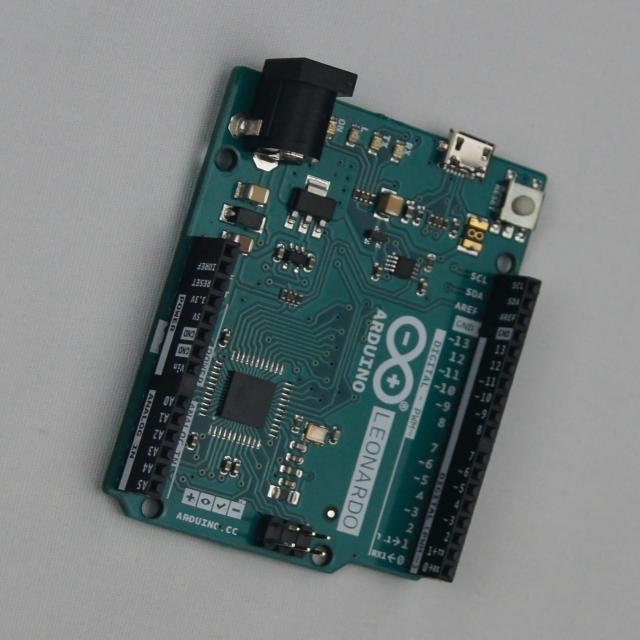Arduino-leonardo: (104, 59, 547, 582)
